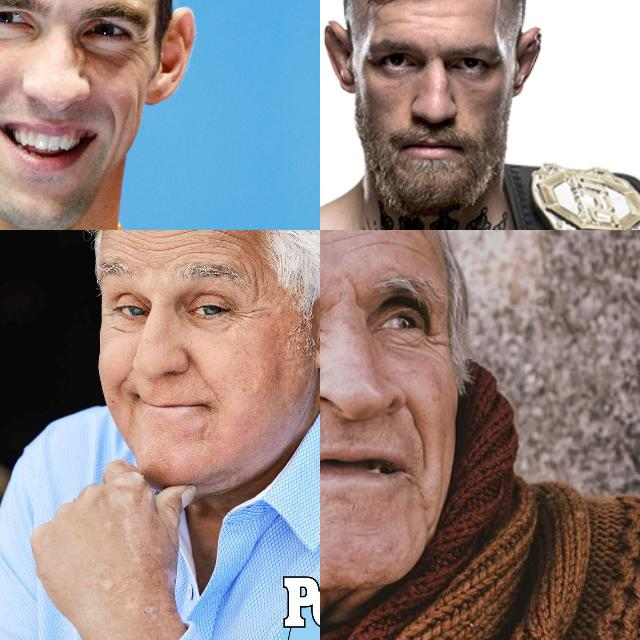crows_feet: (236, 302, 268, 328), (422, 331, 444, 363), (132, 33, 150, 61), (103, 302, 115, 326)
forehead: (231, 230, 272, 283), (358, 235, 424, 262), (160, 230, 219, 258), (111, 230, 150, 259), (410, 5, 466, 22), (379, 10, 411, 30)
frown_line: (346, 278, 362, 310)
gummy_smile: (404, 404, 430, 462), (187, 356, 221, 400), (113, 369, 133, 399), (104, 100, 118, 142)
masseter: (434, 452, 446, 510), (130, 89, 140, 131)
sad_smile: (402, 467, 424, 497)
